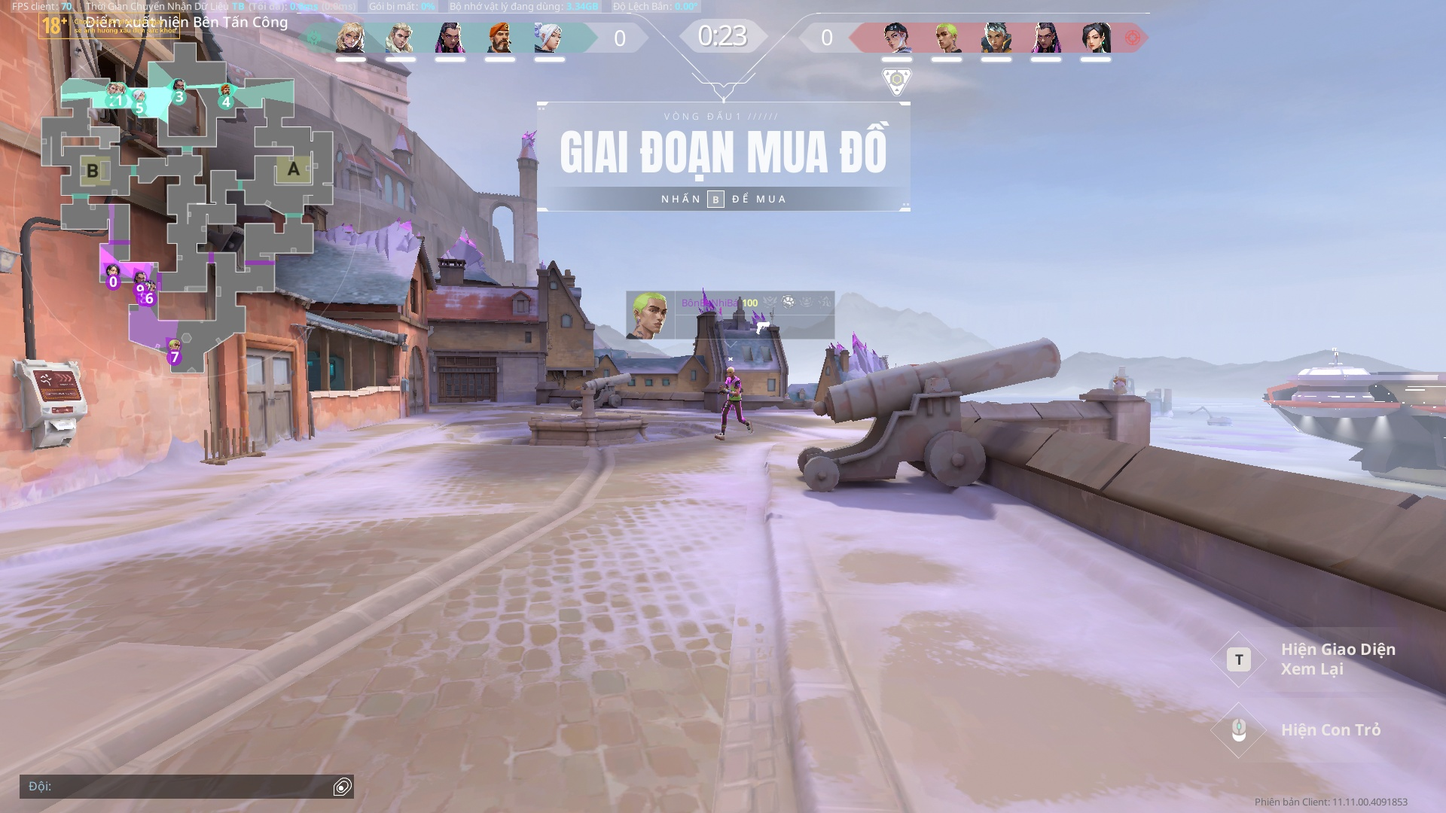body: (725, 376, 742, 400)
head: (726, 365, 737, 378)
